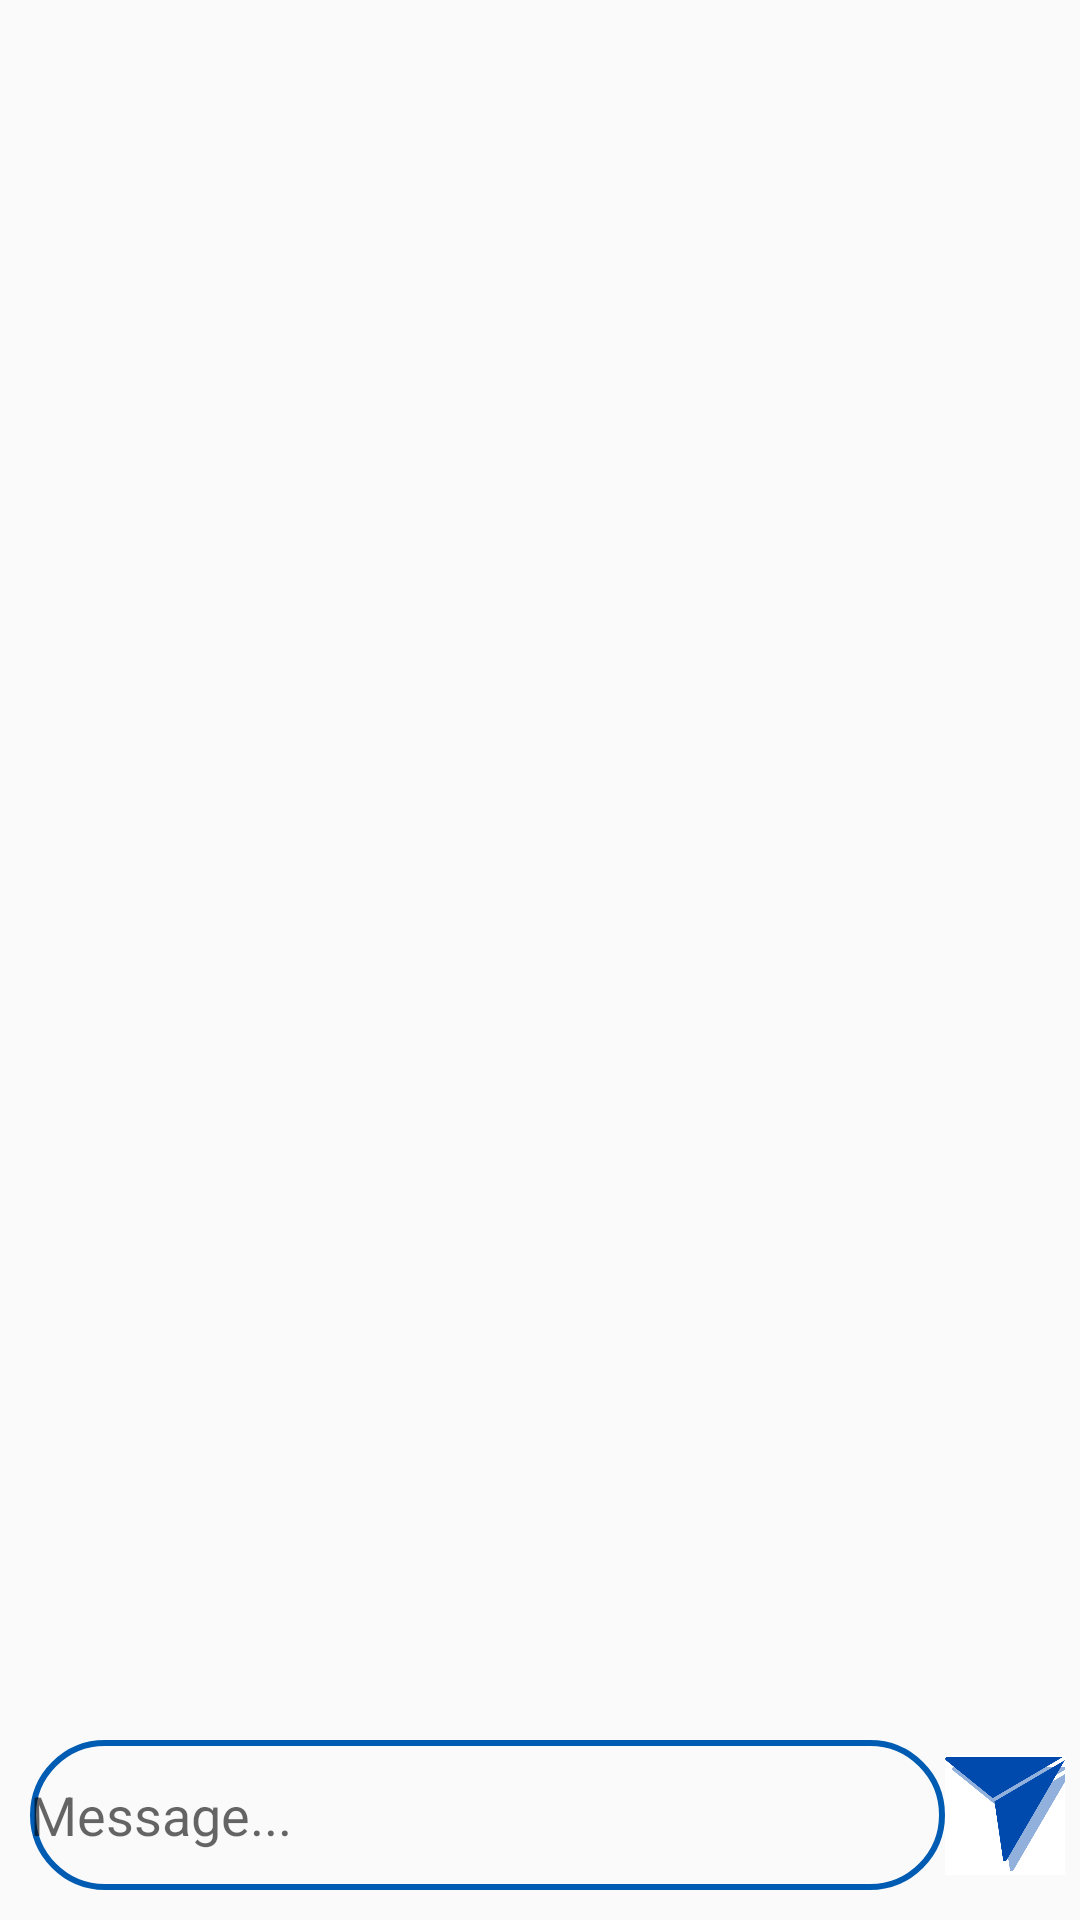

Named icons in this screenshot (1080px x 1920px) and their centers, [x,y]:
send: [1005,1814]
